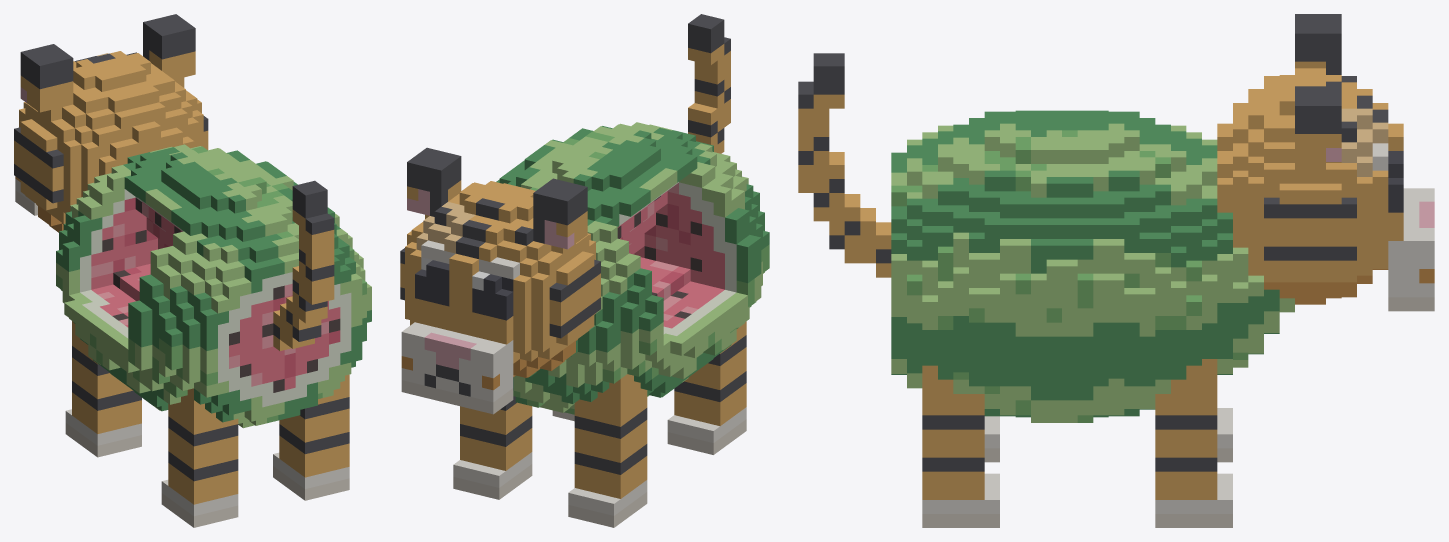
The model's file is TigriliniWatermelini.glb.
The picture shows the model from 3 angles, left to right: view 1: azimuth 30°, elevation 25°; view 2: azimuth 150°, elevation 25°; view 3: azimuth 270°, elevation 25°; orthographic projection. The views are drawn at different scales.
Visible parts, largest first — view 1: geometry_0; view 2: geometry_0; view 3: geometry_0.
Boxes of the visible parts, x1,y1,x2,y2 form: geometry_0: (14, 14, 371, 527); geometry_0: (400, 14, 769, 527); geometry_0: (798, 14, 1434, 527).
Bounding box in the file's own units: 0.5882 × 0.8824 × 1.21.
